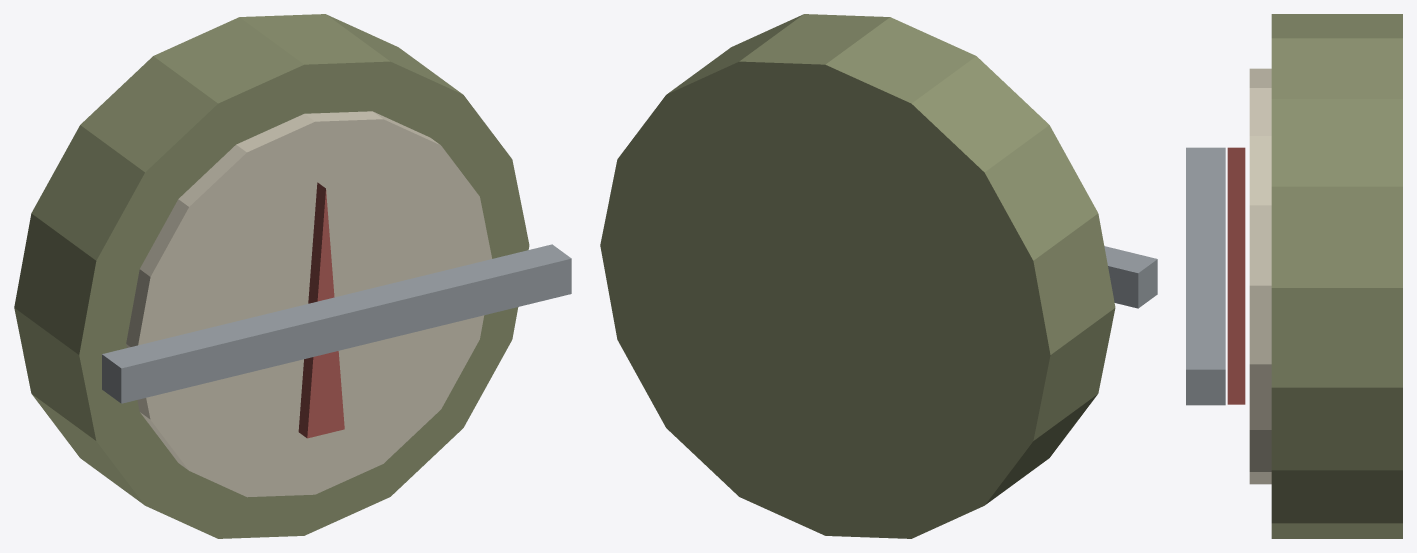
File: compass.glb
The picture shows the model from 3 angles, left to right: view 1: azimuth 30°, elevation 25°; view 2: azimuth 150°, elevation 25°; view 3: azimuth 270°, elevation 25°; orthographic projection.
Visible parts, largest first — view 1: 00_case, 01_dial, 03_sight, 02_needle; view 2: 00_case, 03_sight; view 3: 00_case, 03_sight, 01_dial, 02_needle.
Part boxes in pixels (box(x1,y1,x2,y2)): 00_case: box(14, 14, 529, 538); 01_dial: box(126, 111, 492, 497); 03_sight: box(102, 244, 571, 403); 02_needle: box(298, 182, 344, 438); 00_case: box(600, 14, 1115, 538); 03_sight: box(1104, 246, 1157, 308); 00_case: box(1271, 14, 1402, 538); 03_sight: box(1186, 147, 1225, 405); 01_dial: box(1249, 68, 1271, 484); 02_needle: box(1227, 147, 1245, 404).
Bounding box in the file's own units: 0.24 × 0.24 × 0.099.
